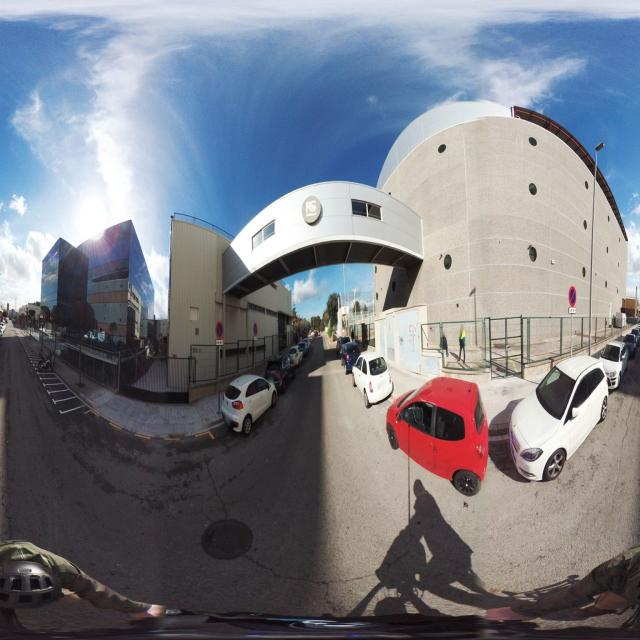forb_stopping: (216, 322, 224, 339)
forb_waiting: (568, 286, 576, 307), (254, 322, 258, 337)
